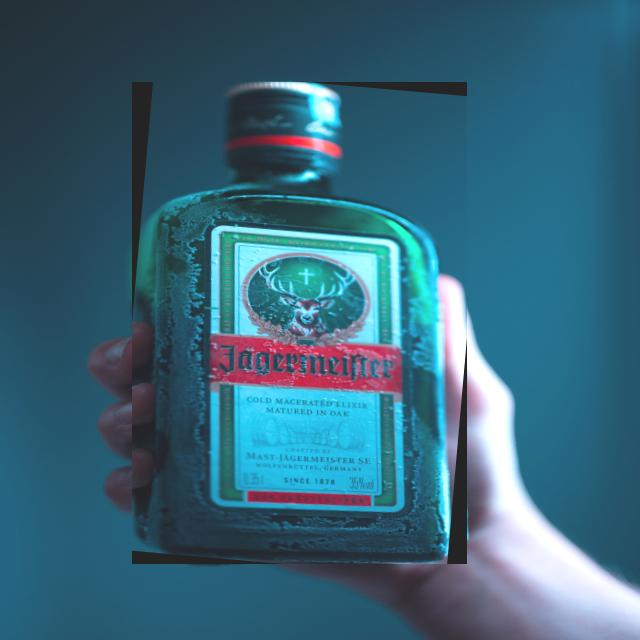Bottle: (133, 83, 467, 563)
